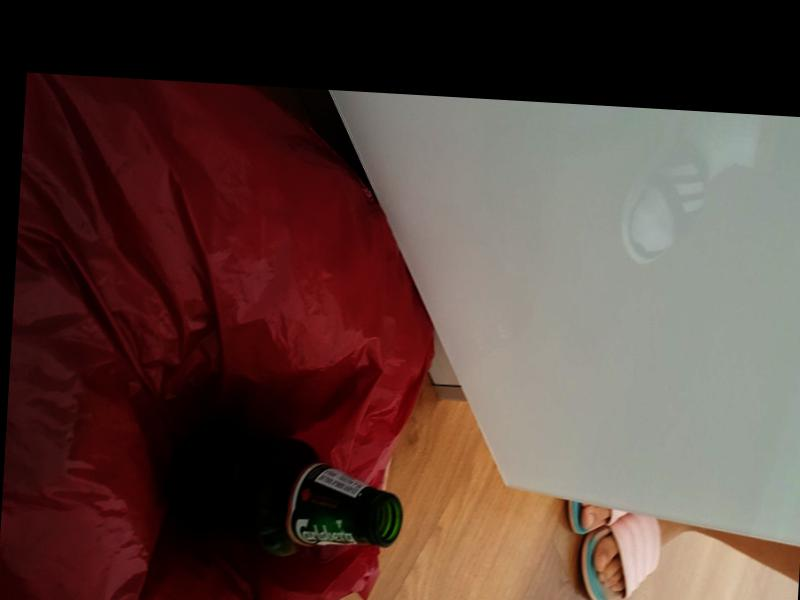Beer: (163, 422, 405, 562)
